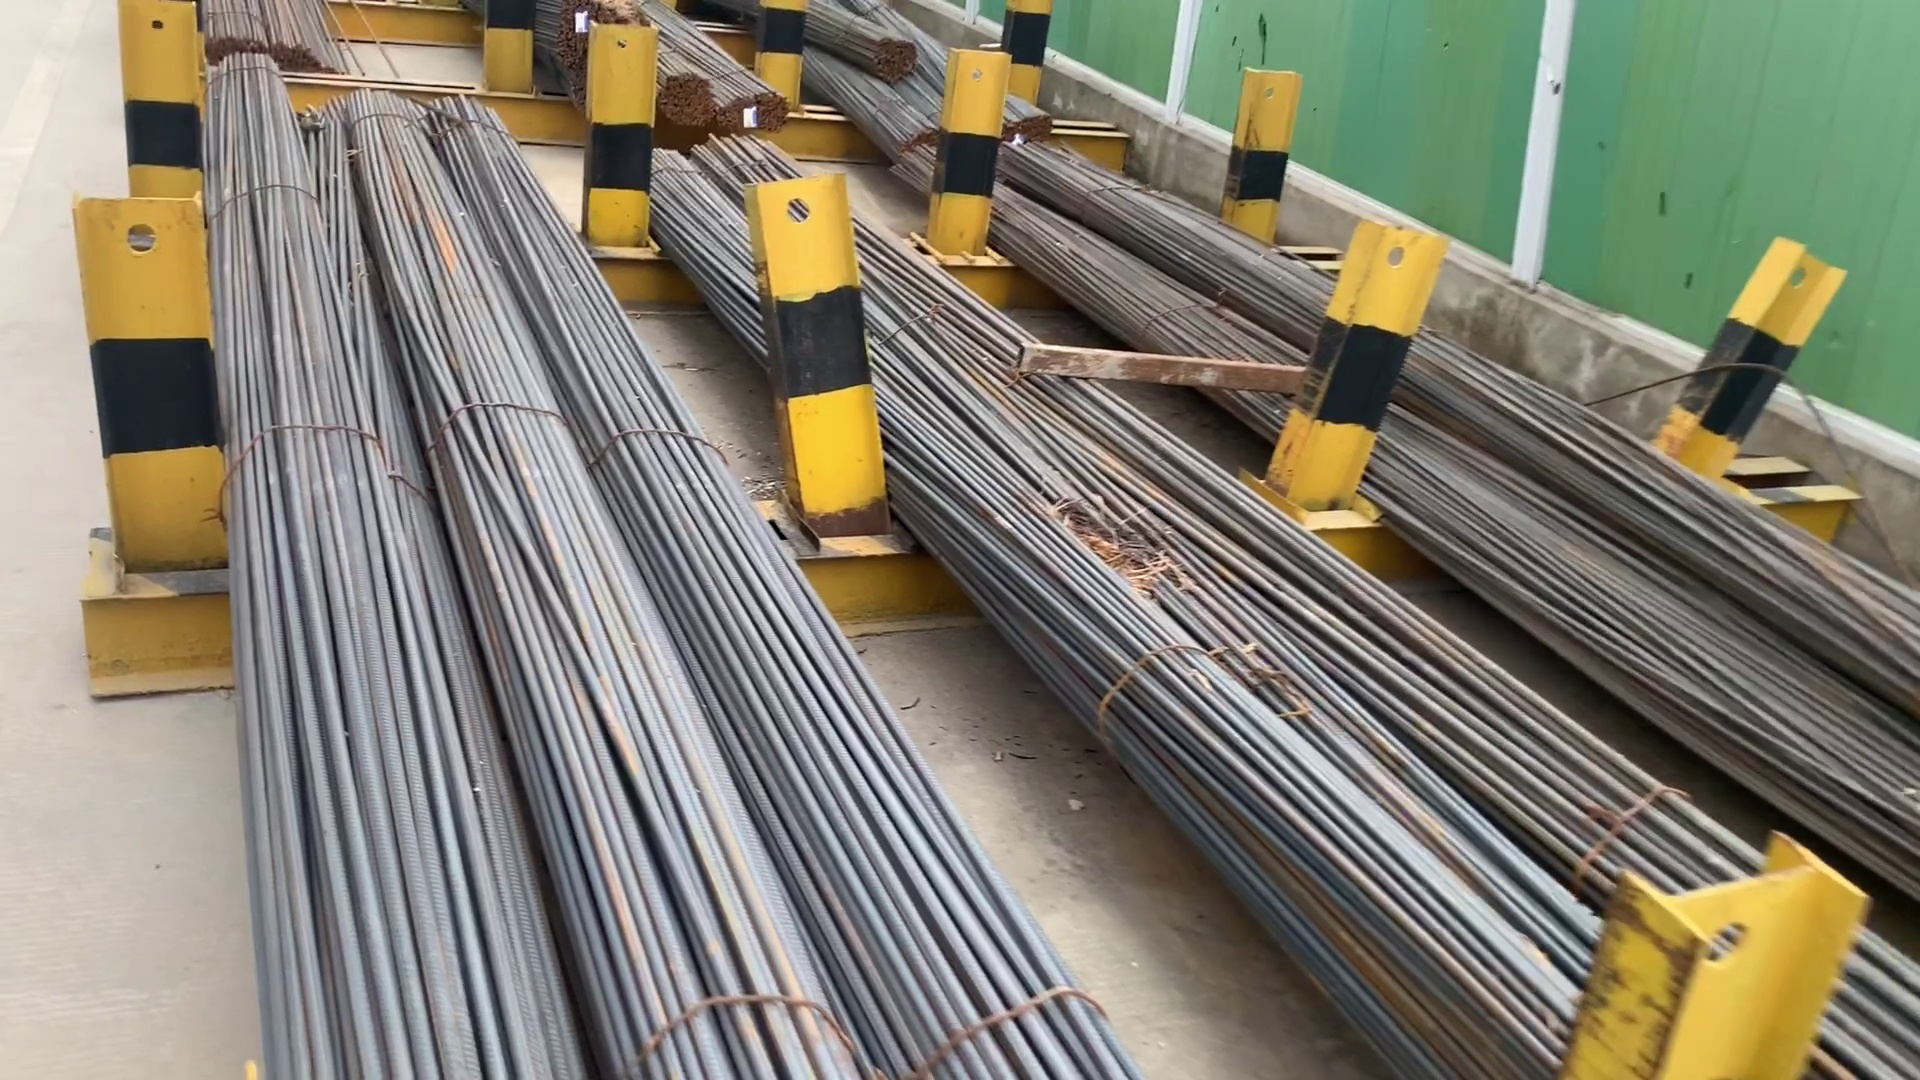rebar: (646, 61, 716, 131), (720, 80, 789, 129), (865, 36, 914, 83), (280, 44, 345, 76), (210, 26, 284, 55)
